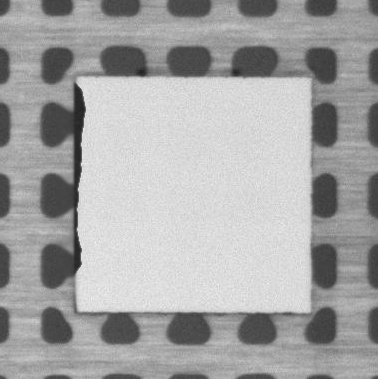DIE_BROKEN: (71, 79, 88, 280)
